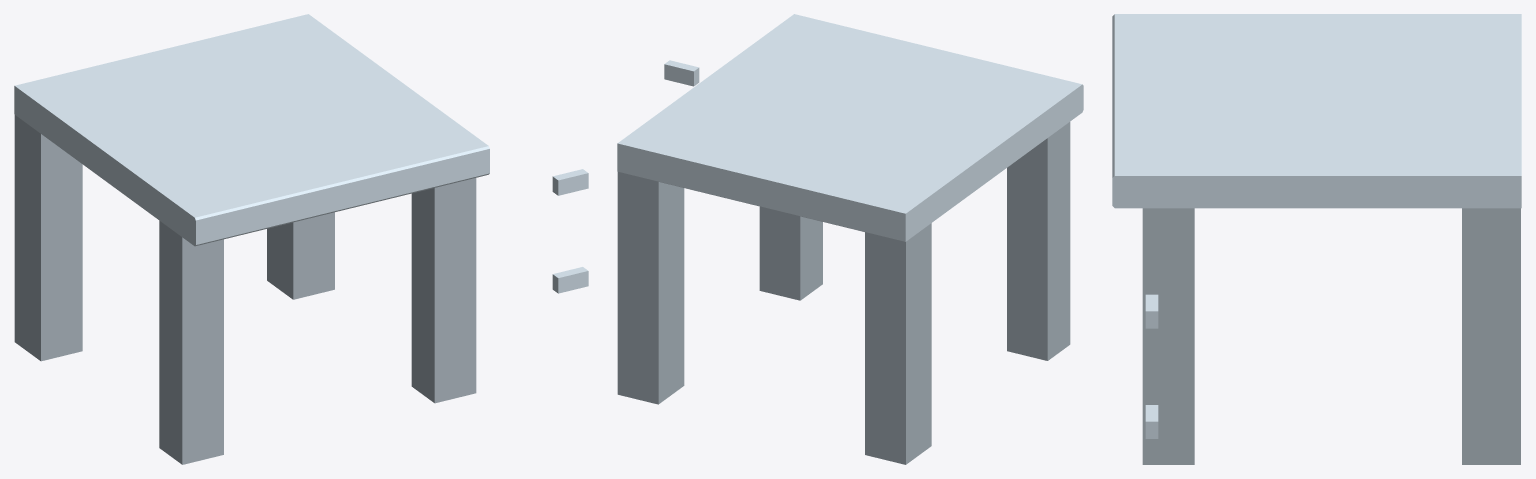
The model's file is Game Desk.glb.
3 renders of one model, left to right at view 1: azimuth 30°, elevation 25°; view 2: azimuth 150°, elevation 25°; view 3: azimuth 270°, elevation 25°, orthographic. The views are drawn at different scales.
Parts seen in each view (by area): view 1: Top, Legs, Handles; view 2: Top, Legs, Handles; view 3: Top, Legs, Handles.
Boxes of the visible parts, <box> form: Top: <box>14,14,489,246</box>; Legs: <box>14,115,476,464</box>; Handles: <box>552,169,588,293</box>; Top: <box>617,14,1083,241</box>; Legs: <box>617,122,1070,464</box>; Handles: <box>664,60,699,86</box>; Top: <box>1112,14,1521,208</box>; Legs: <box>1142,208,1520,464</box>; Handles: <box>1145,294,1158,438</box>.
Bounding box in the file's own units: 1.19 × 0.7146 × 0.9164.
